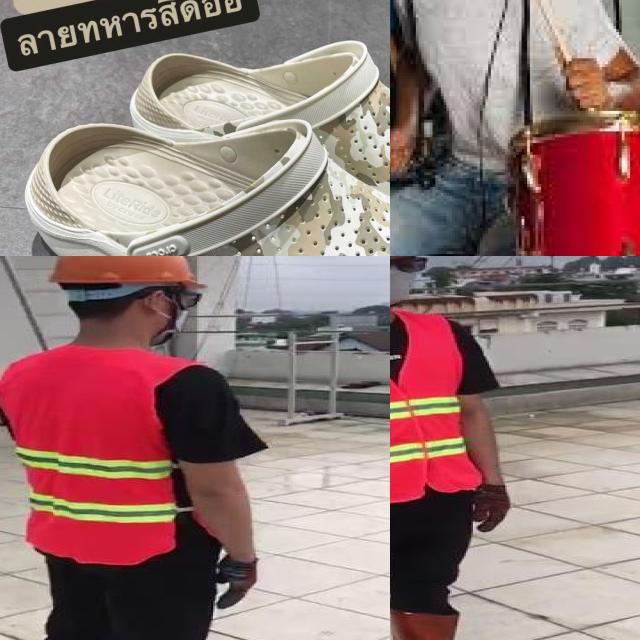Sandals: (0, 19, 390, 256)
boots: (390, 609, 505, 640)
face_mask: (390, 256, 425, 308)
glasses: (390, 256, 432, 278)
hand_glove: (215, 557, 257, 611), (473, 484, 509, 533)
head_helmet: (41, 256, 219, 293)
person: (0, 256, 278, 640), (390, 0, 640, 256), (390, 256, 542, 640)
vest: (0, 347, 189, 567), (390, 316, 478, 503)
